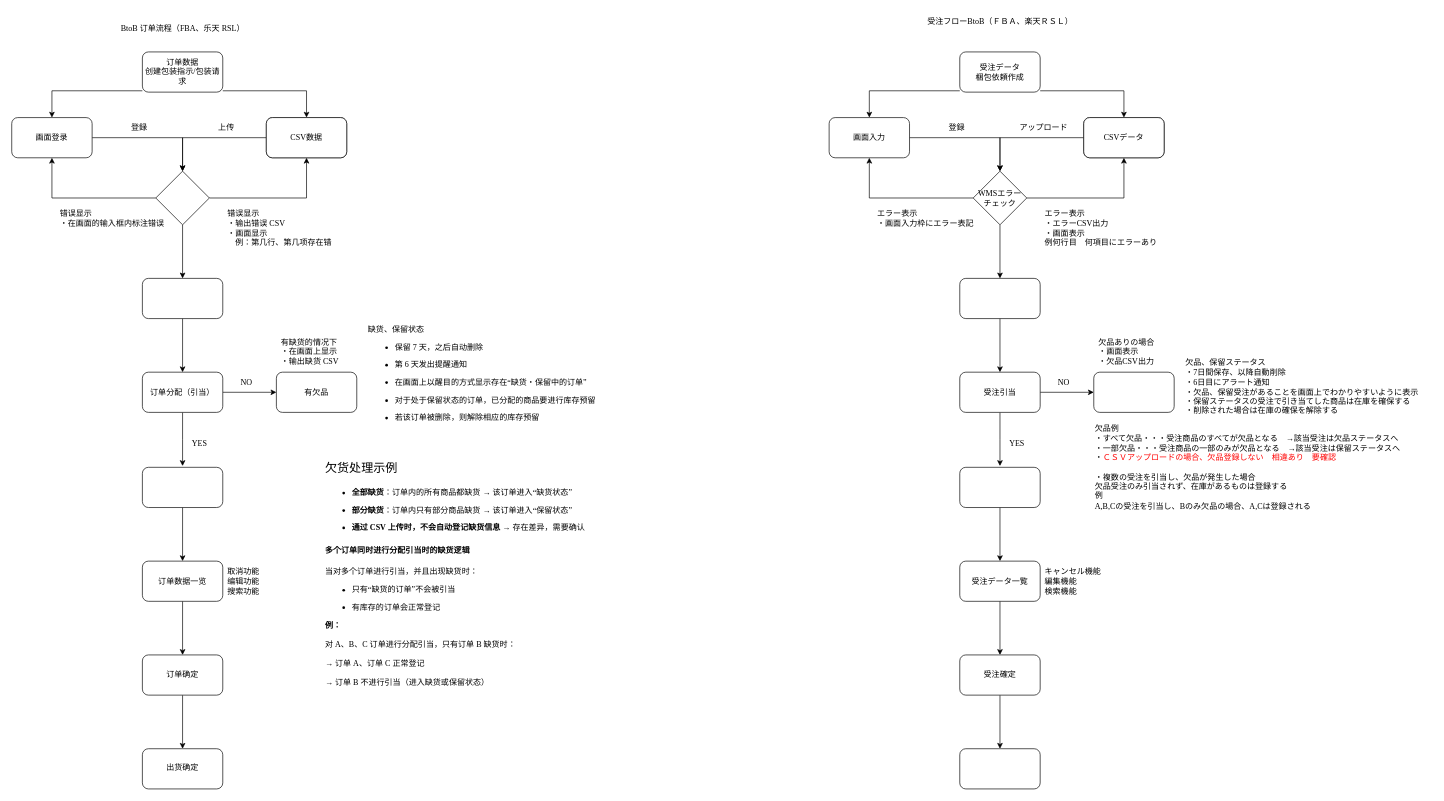
This 1444x801 diagram has some shape labels left out. Each missing label, with the box of its shape:
WMS 错误检查: (155, 171, 209, 225)
出荷確定: (959, 748, 1040, 789)
受注データ登録完了: (959, 278, 1040, 319)
受注引当確定: (959, 467, 1040, 508)
欠品あり: (1093, 372, 1174, 412)
订单分配确定: (142, 467, 223, 508)
订单数据登记完成: (142, 278, 223, 319)
